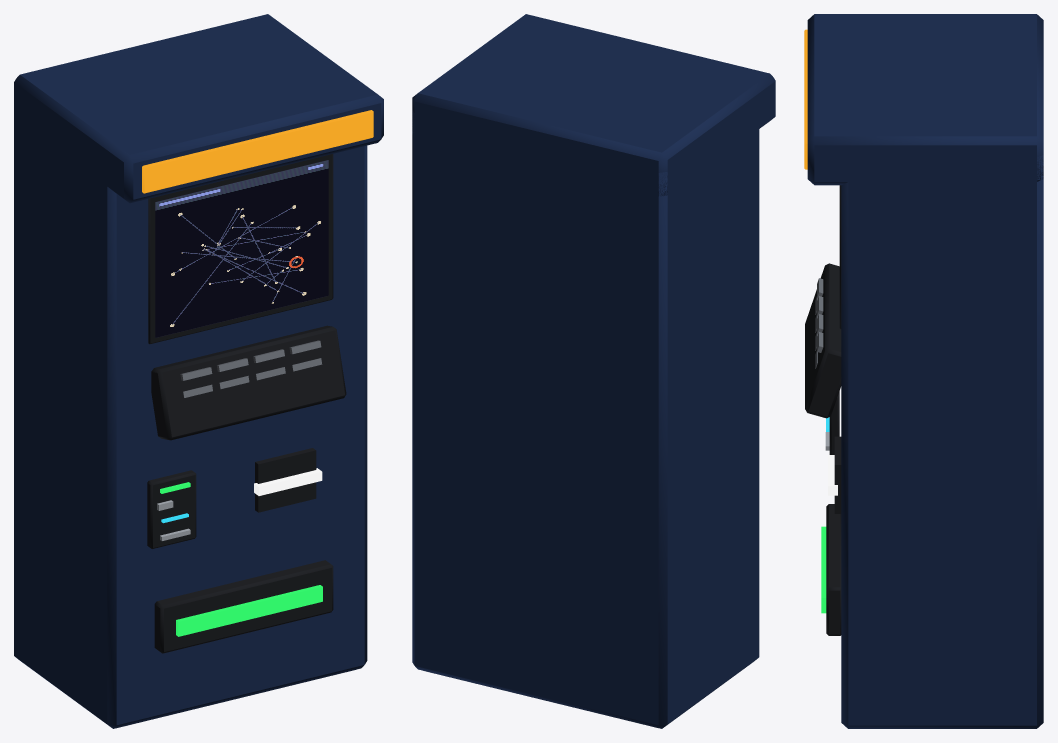
Rendered from vending_ticket_kiosk.glb.
3 renders of one model, left to right at view 1: azimuth 30°, elevation 25°; view 2: azimuth 150°, elevation 25°; view 3: azimuth 270°, elevation 25°, orthographic. The views are drawn at different scales.
Visible parts, largest first — view 1: vending_ticket_kiosk; view 2: vending_ticket_kiosk; view 3: vending_ticket_kiosk.
Part boxes in pixels (x1,y1,x2,y2): vending_ticket_kiosk: [14, 14, 383, 728]; vending_ticket_kiosk: [412, 14, 775, 728]; vending_ticket_kiosk: [804, 14, 1043, 728].
Bounding box in the file's own units: 0.9 × 1.94 × 0.71.
9 materials, 1 textured.
